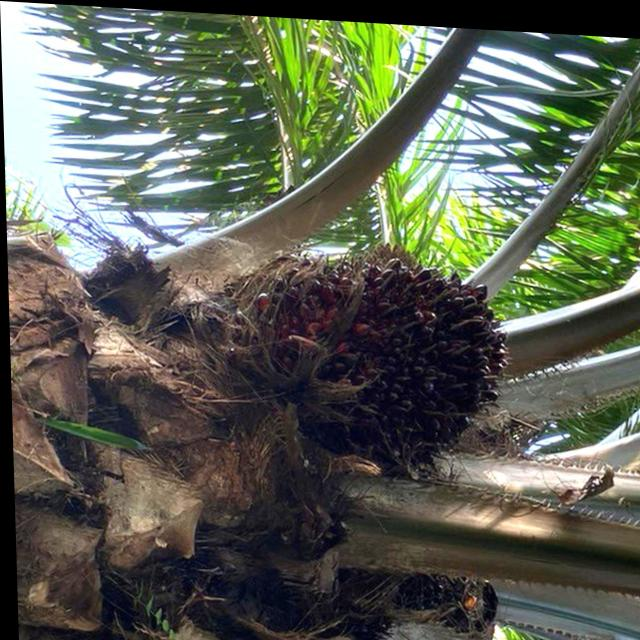ripe: (228, 235, 513, 478)
